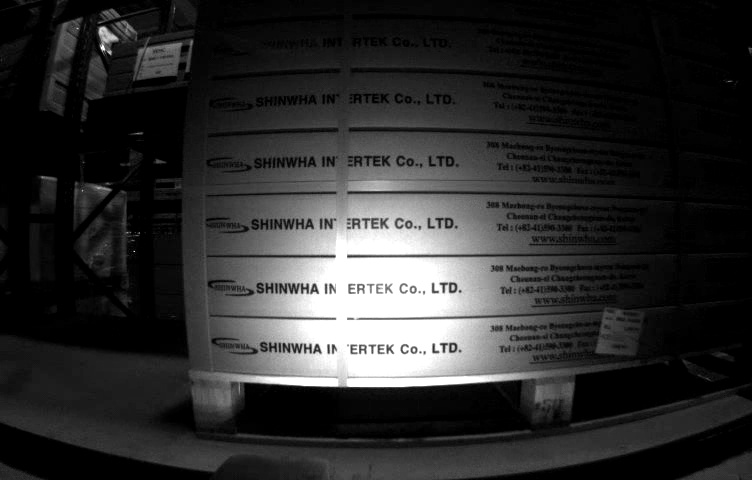True Barcode: (593, 307, 642, 355)
